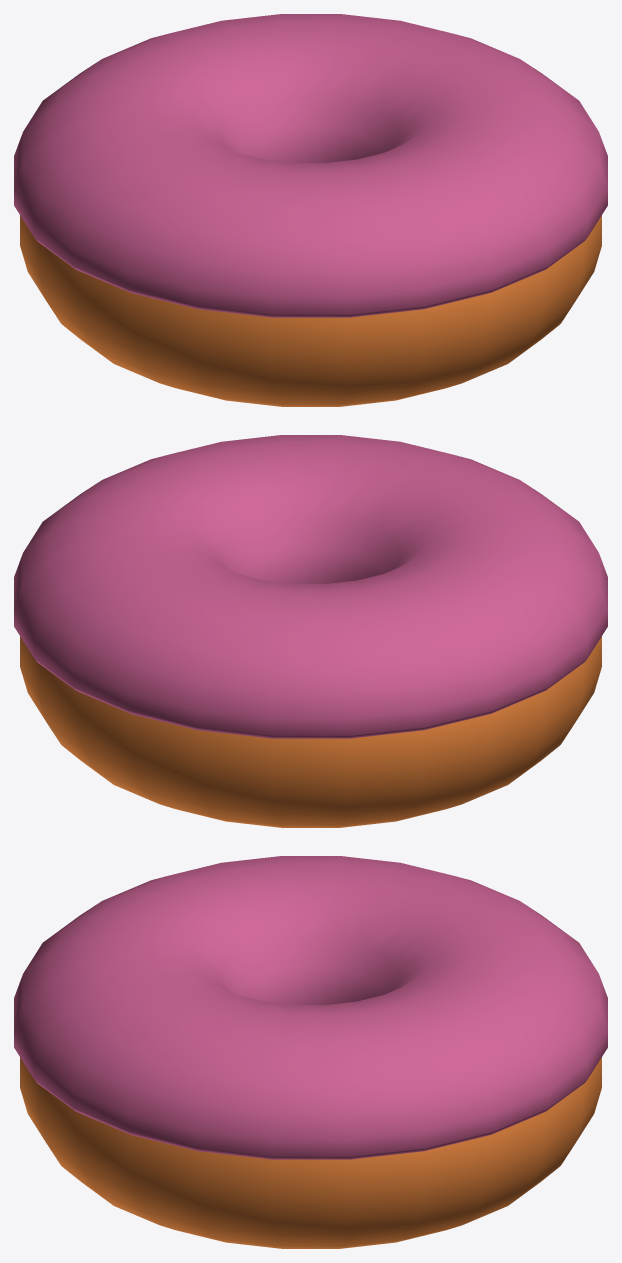
File: donut_07.fbx
3 views of the same model, one above another, from view 1: azimuth 30°, elevation 25°; view 2: azimuth 150°, elevation 25°; view 3: azimuth 270°, elevation 25° (orthographic).
Visible parts, largest first — view 1: donut_07; view 2: donut_07; view 3: donut_07.
Boxes of the visible parts, <box> form: donut_07: <box>14,14,607,406</box>; donut_07: <box>14,435,607,827</box>; donut_07: <box>14,856,607,1248</box>.
Size of the model in its own units: 1716 by 688 by 1716.
